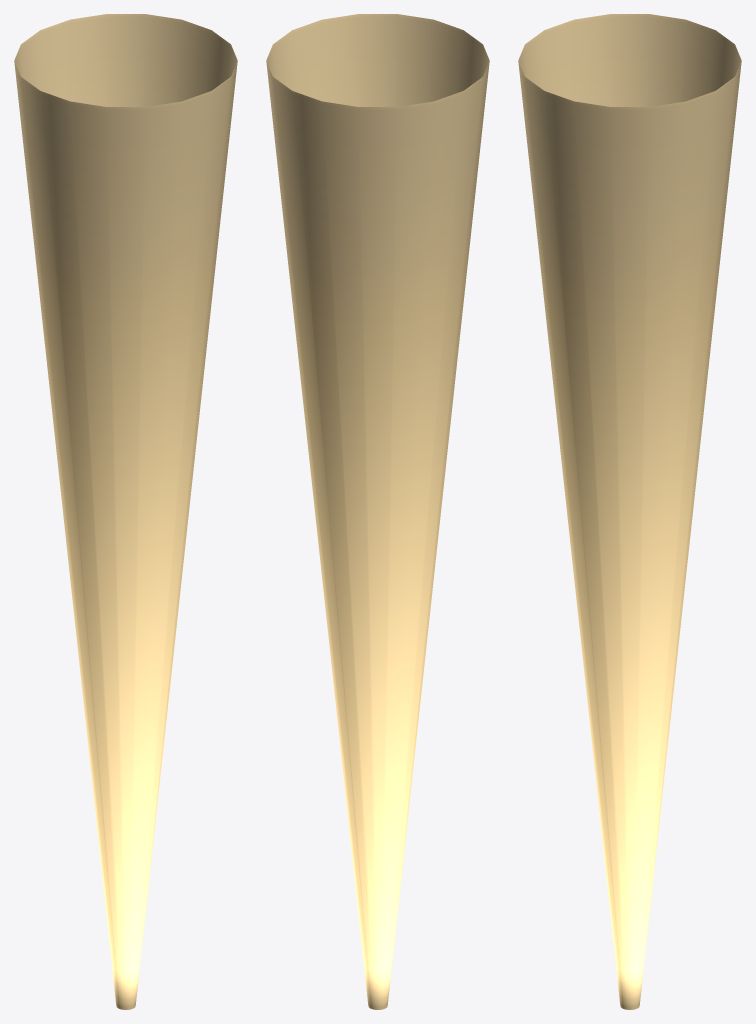
The model's file is HarborBeam.gltf.
3 renders of one model, left to right at view 1: azimuth 30°, elevation 25°; view 2: azimuth 150°, elevation 25°; view 3: azimuth 270°, elevation 25°, orthographic.
Visible parts, largest first — view 1: HarborBeam; view 2: HarborBeam; view 3: HarborBeam.
Boxes of the visible parts, <box> form: HarborBeam: <box>14,14,237,1009</box>; HarborBeam: <box>266,14,489,1009</box>; HarborBeam: <box>518,14,741,1009</box>.
Bounding box in the file's own units: 5.91 × 28 × 6.
1 material, 1 textured.
